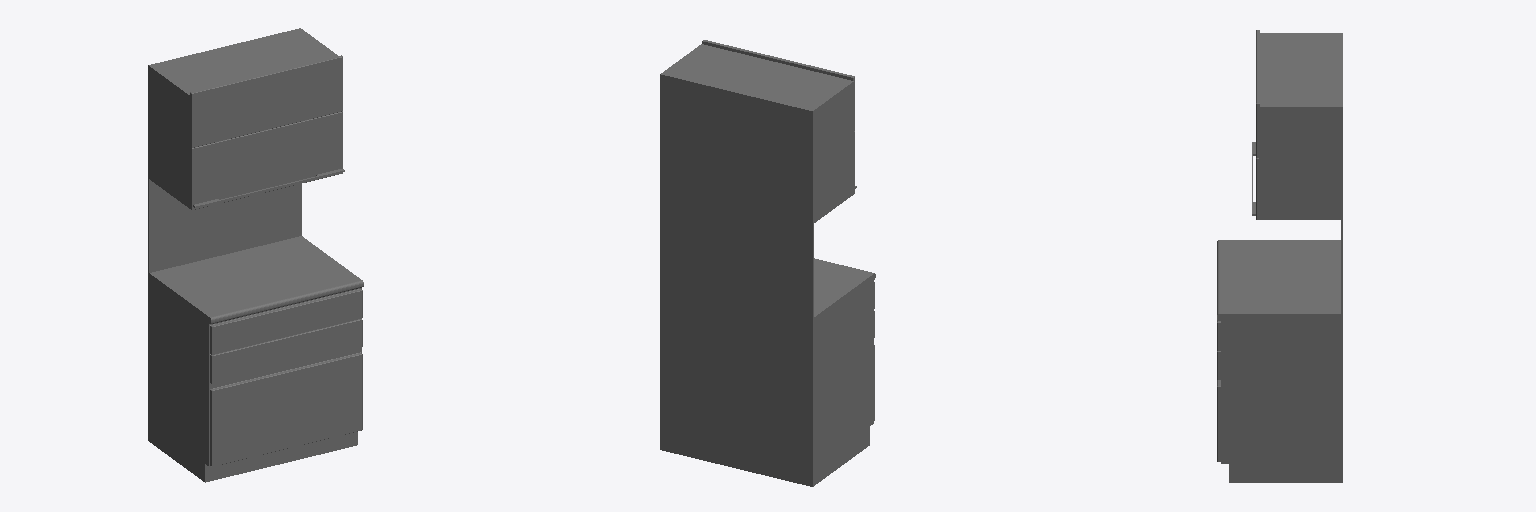
The model's file is Cupboard.obj.
3 renders of one model, left to right at view 1: azimuth 30°, elevation 25°; view 2: azimuth 150°, elevation 25°; view 3: azimuth 270°, elevation 25°, orthographic.
Visible parts, largest first — view 1: Cupboard, UpCupboard, Table, Board, Drawerd; view 2: UpCupboard, Cupboard, Board, Table; view 3: Cupboard, UpCupboard, Table.
Boxes of the visible parts, x1,y1,x2,y2 form: Cupboard: [148, 310, 362, 482]; UpCupboard: [148, 28, 342, 209]; Table: [148, 236, 363, 354]; Board: [148, 179, 301, 272]; Drawerd: [268, 139, 342, 191]; UpCupboard: [660, 40, 854, 224]; Cupboard: [660, 311, 874, 486]; Board: [660, 187, 813, 318]; Table: [660, 258, 875, 354]; Cupboard: [1217, 351, 1342, 482]; UpCupboard: [1256, 30, 1342, 219]; Table: [1217, 240, 1342, 350].
Size of the model in its own units: 48.86 by 116 by 35.